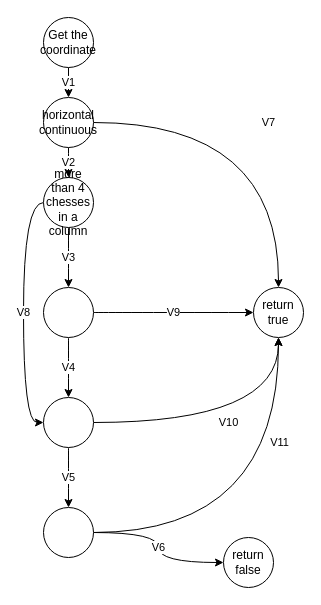
The diagram is 321 pixels wide and 605 high, and some of its shapes have lost their labels. Here are the shapes that lost their labels. From the top down, the centre of each, then its label:
At [68,312]: "vertical continuous".
At [68,422]: "diagonal continuou （UL-LR）".
At [68,532]: "diagonal continuou （UR-LL）".
